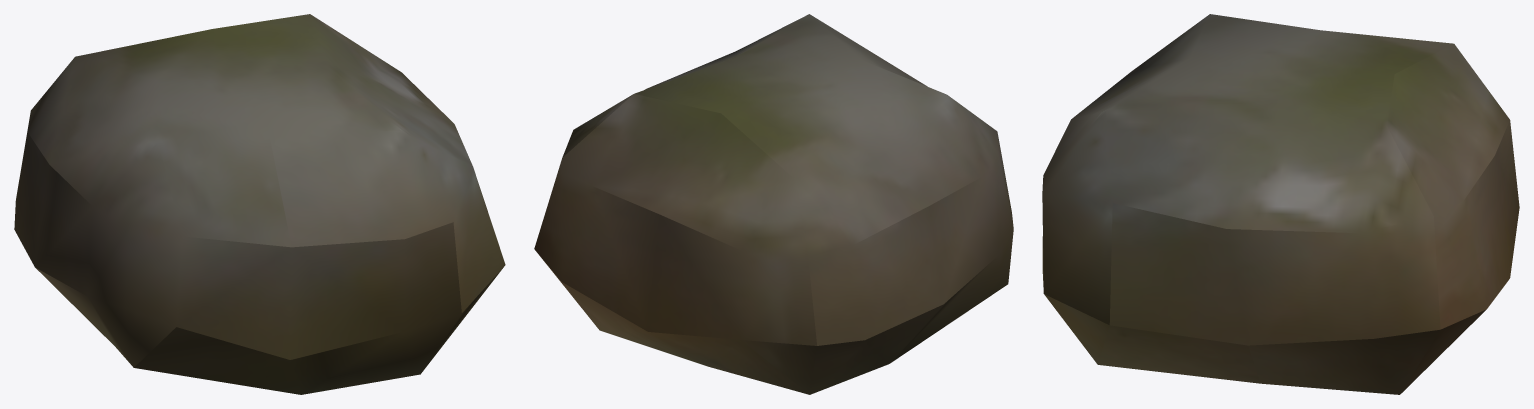
Rendered from Stone_A_001_001.fbx.
3 renders of one model, left to right at view 1: azimuth 30°, elevation 25°; view 2: azimuth 150°, elevation 25°; view 3: azimuth 270°, elevation 25°, orthographic. The views are drawn at different scales.
Parts seen in each view (by area): view 1: Stone_A_001_001_LOD0; view 2: Stone_A_001_001_LOD0; view 3: Stone_A_001_001_LOD0.
Boxes of the visible parts, x1=… form: Stone_A_001_001_LOD0: x1=14, y1=14, x2=505, y2=394; Stone_A_001_001_LOD0: x1=534, y1=14, x2=1013, y2=394; Stone_A_001_001_LOD0: x1=1042, y1=14, x2=1519, y2=394.
Size of what is drawn, in the model's own units: 231 by 149 by 243.
Materials: 1 (1 with a texture image).
